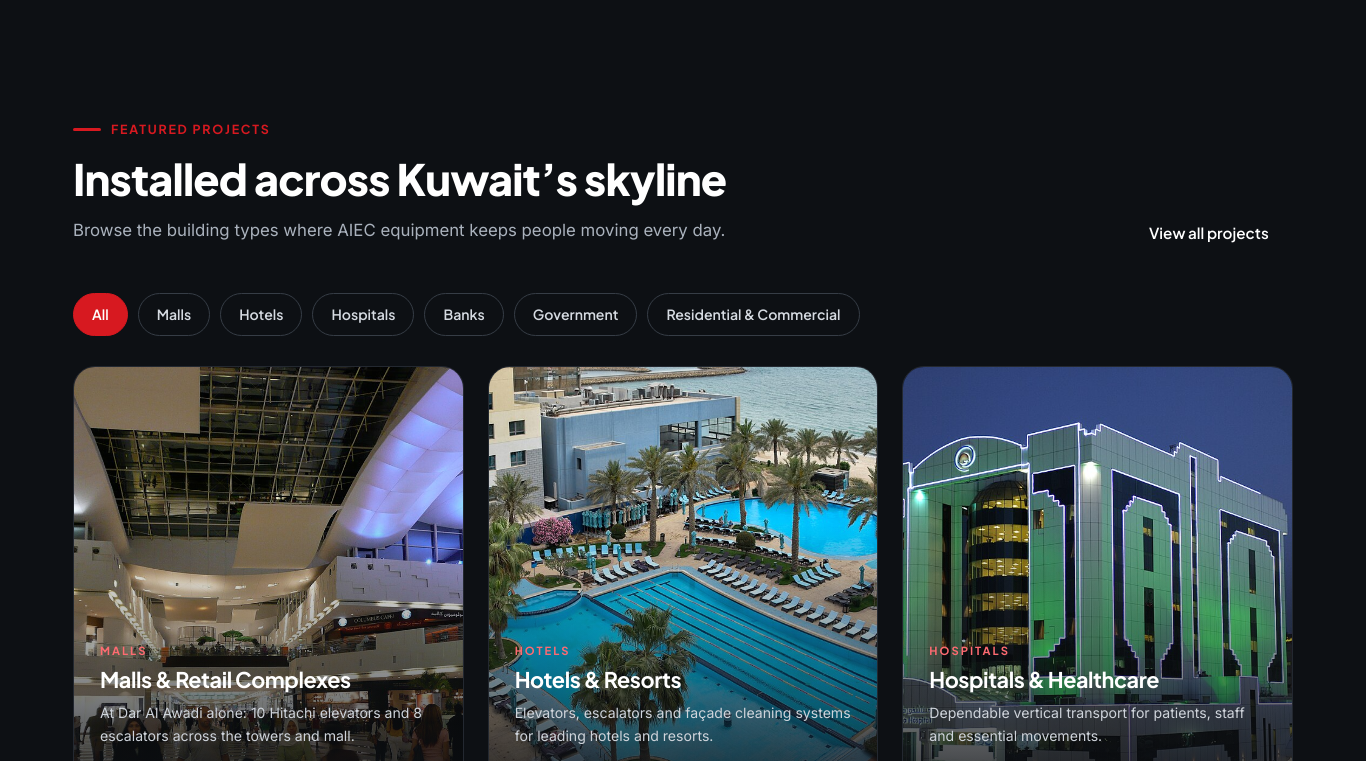
Scenario: Projects › chip Malls shows only the matching card
Click the tab "Malls".
click(174, 315)  # box top-left (138, 293), bottom-right (210, 336)
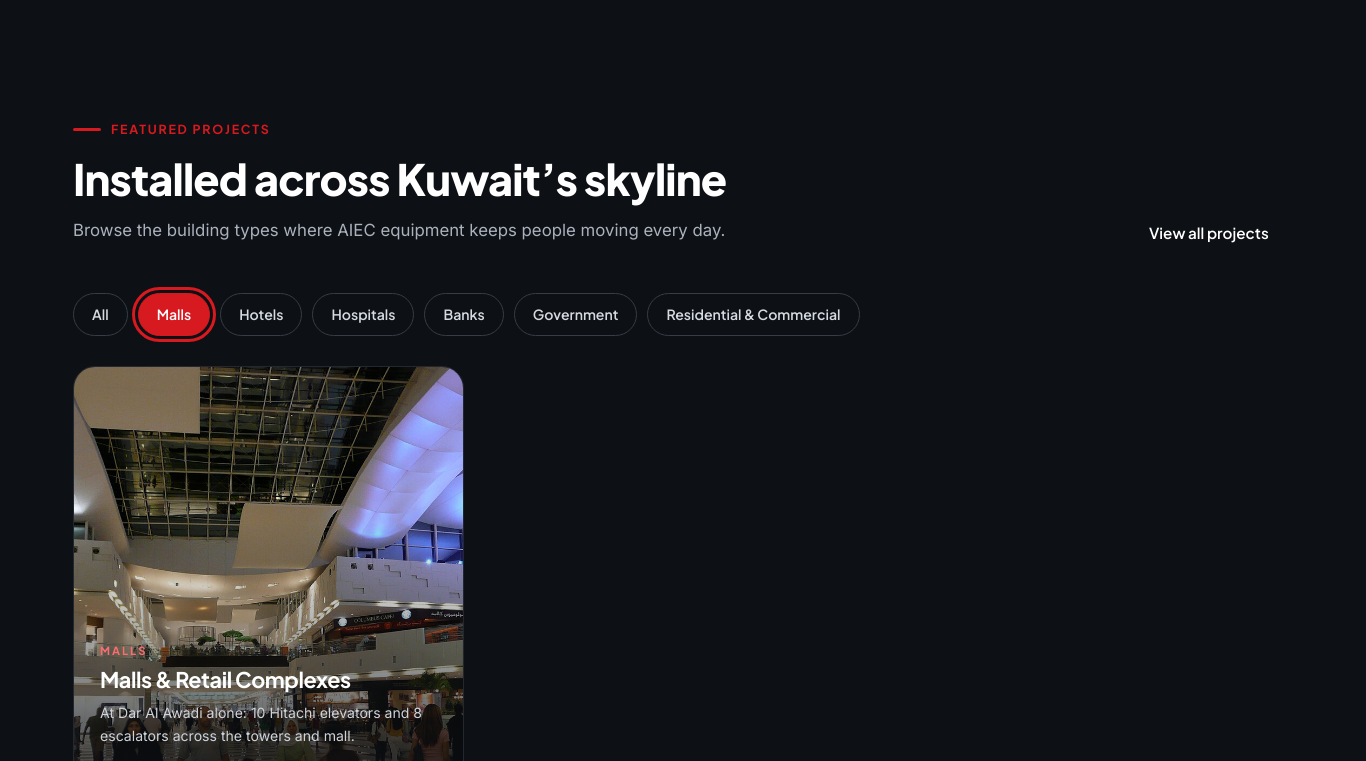
Check: the tab "Malls" is selected, box top-left (138, 293), bottom-right (210, 336)
Check: the tab "Malls" has class "on", box top-left (138, 293), bottom-right (210, 336)
Check: the tab "All" is not selected, box top-left (73, 293), bottom-right (128, 336)
